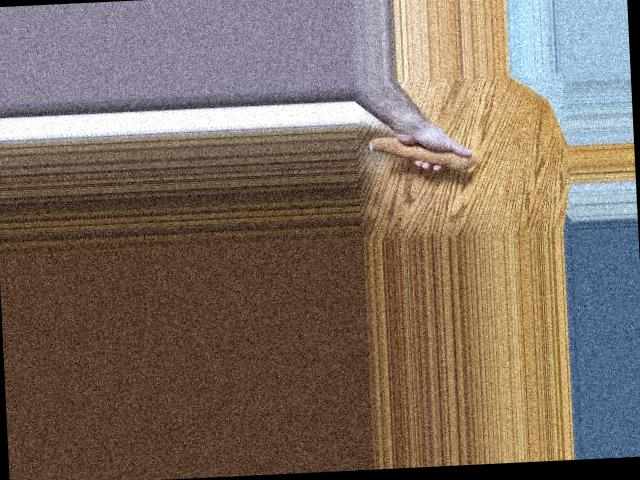sweet_potato: (367, 131, 476, 174)
